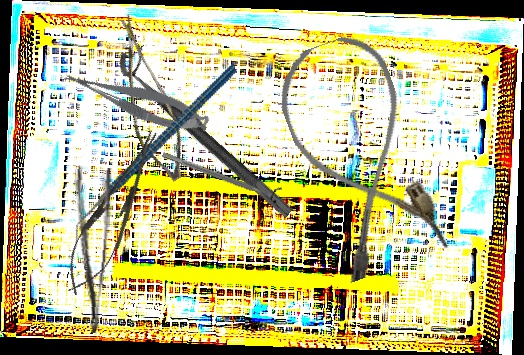Cannula: (265, 26, 453, 285)
Chopper: (34, 63, 275, 246)
Dressing Forceps: (61, 165, 115, 334)
Fixation Ring: (111, 39, 307, 220), (159, 145, 283, 206)
Micro Scissor: (82, 13, 211, 187), (61, 53, 213, 146)
Needle Holder: (53, 122, 174, 303)
